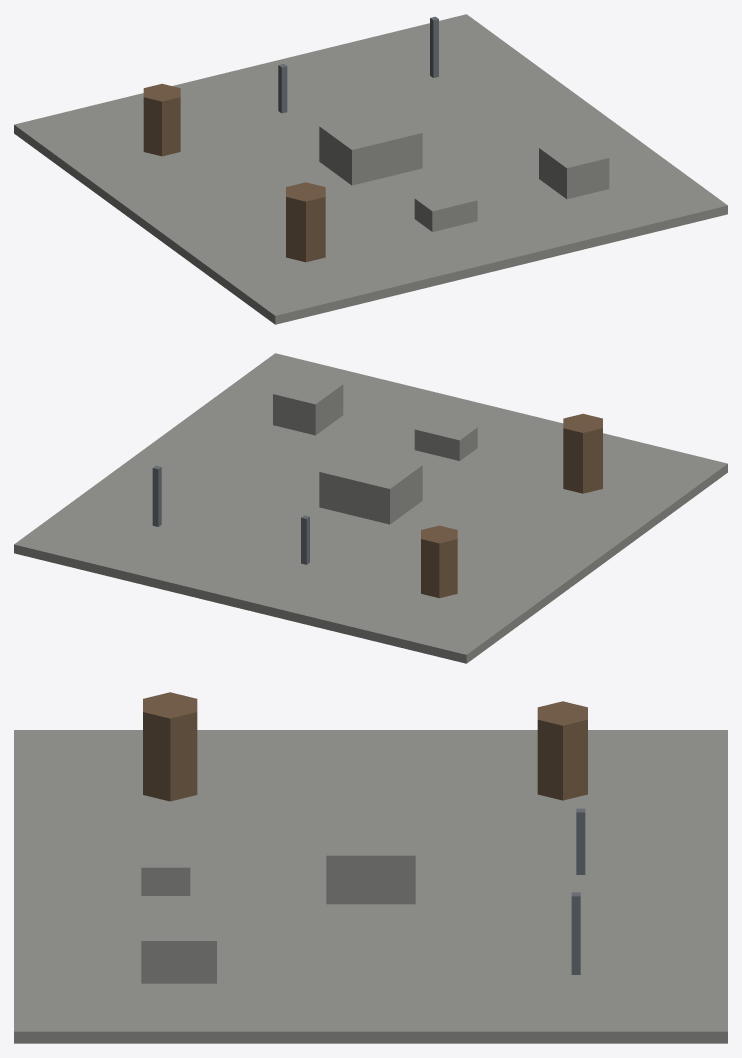
File: tw_slab_32_crown_lod1.glb
The picture shows the model from 3 angles, top to bottom: view 1: azimuth 30°, elevation 25°; view 2: azimuth 150°, elevation 25°; view 3: azimuth 270°, elevation 25°; orthographic projection. The views are drawn at different scales.
Parts seen in each view (by area): view 1: tw_slab_32_crown_lod1; view 2: tw_slab_32_crown_lod1; view 3: tw_slab_32_crown_lod1.
Boxes of the visible parts, bbox=[...] form: tw_slab_32_crown_lod1: bbox=[14, 14, 727, 324]; tw_slab_32_crown_lod1: bbox=[14, 353, 727, 663]; tw_slab_32_crown_lod1: bbox=[14, 692, 727, 1043].
Size of the model in its own units: 32 by 4.7 by 32.
2 materials, 2 textured.
